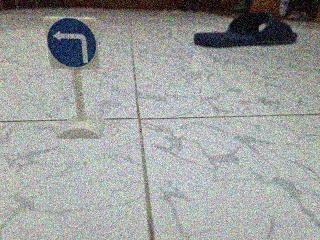left: (43, 15, 100, 70)
